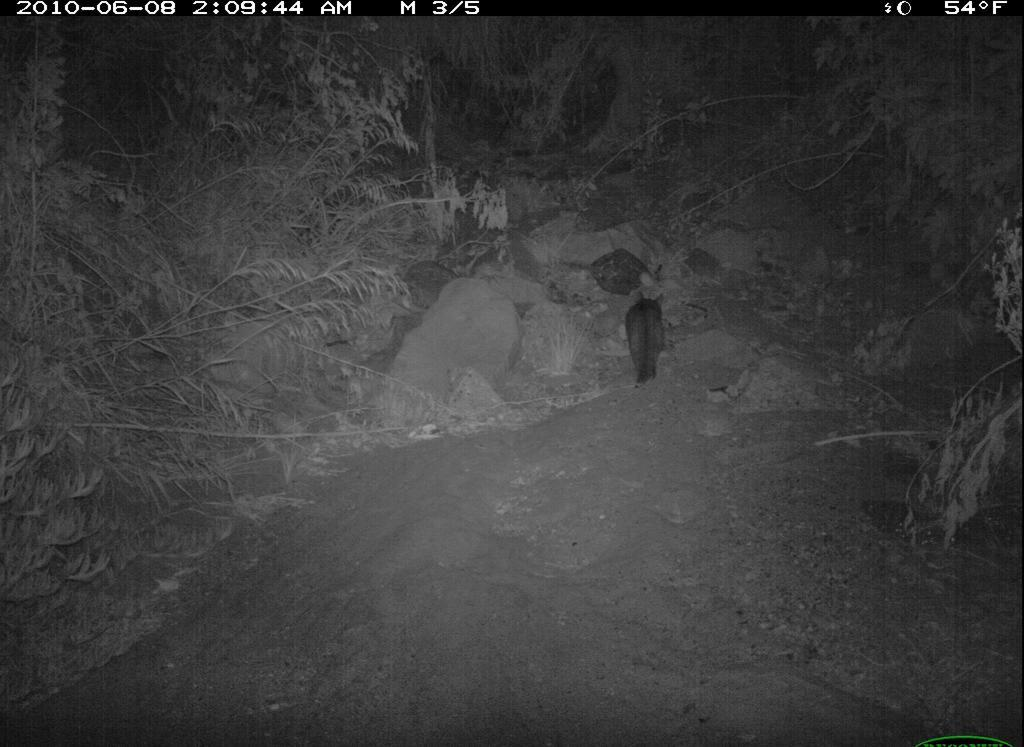cat: (619, 280, 687, 393)
